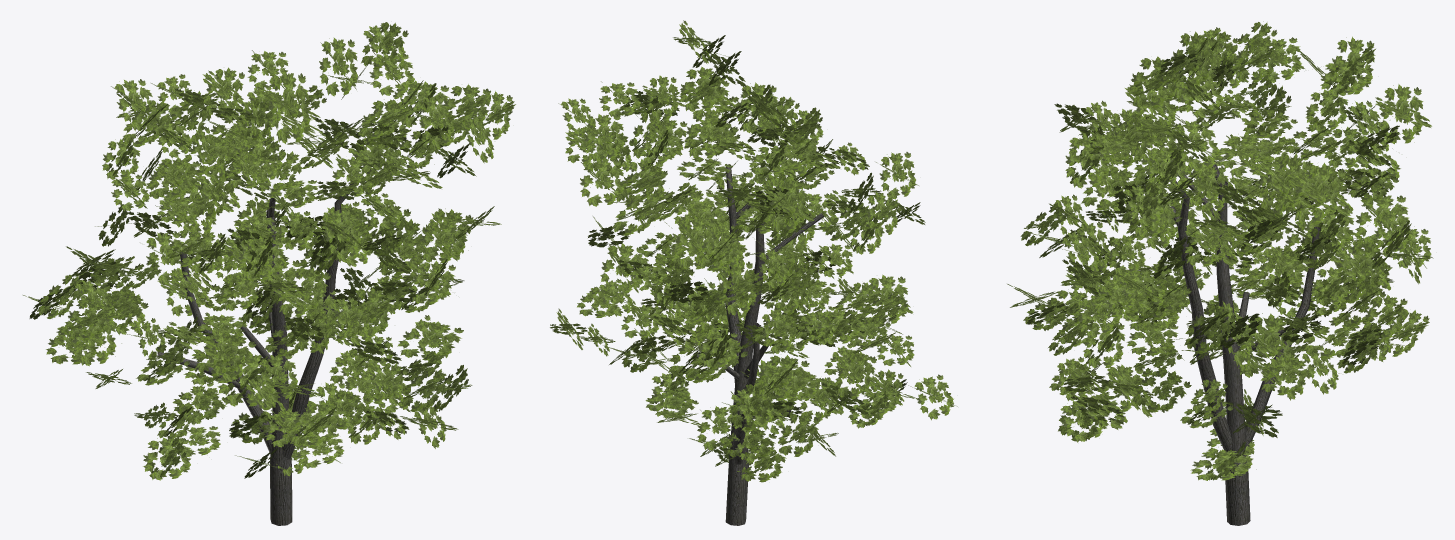
File: sugar_maple_3.obj
3 renders of one model, left to right at view 1: azimuth 30°, elevation 25°; view 2: azimuth 150°, elevation 25°; view 3: azimuth 270°, elevation 25°, orthographic. The views are drawn at different scales.
Parts seen in each view (by area): view 1: Leaves, Trunk, Branches; view 2: Leaves, Branches, Trunk; view 3: Leaves, Trunk, Branches.
Part boxes in pixels (x1,y1,x2,y2): Leaves: [23, 22, 515, 480]; Trunk: [270, 183, 356, 525]; Branches: [157, 198, 333, 452]; Leaves: [550, 20, 957, 482]; Branches: [697, 203, 824, 464]; Trunk: [725, 165, 748, 525]; Leaves: [1007, 21, 1433, 480]; Trunk: [1171, 180, 1250, 525]; Branches: [1170, 161, 1320, 446].
Bounding box in the file's own units: 43.48 × 48.12 × 37.83.
Materials: 2 (2 with a texture image).
